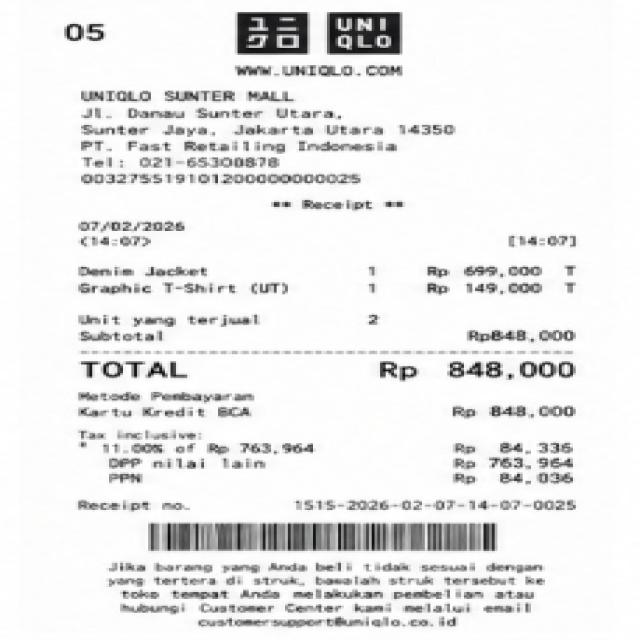date: (74, 215, 200, 250)
store: (226, 4, 407, 60)
total: (78, 356, 584, 387)
